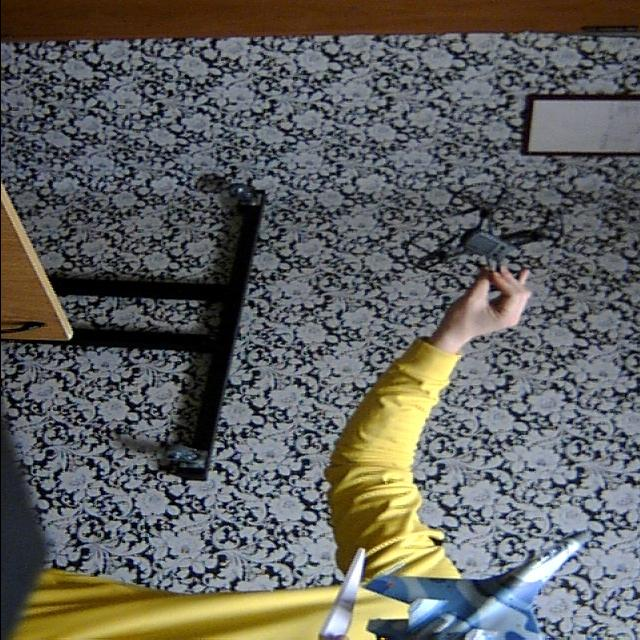drone: (393, 174, 577, 320)
